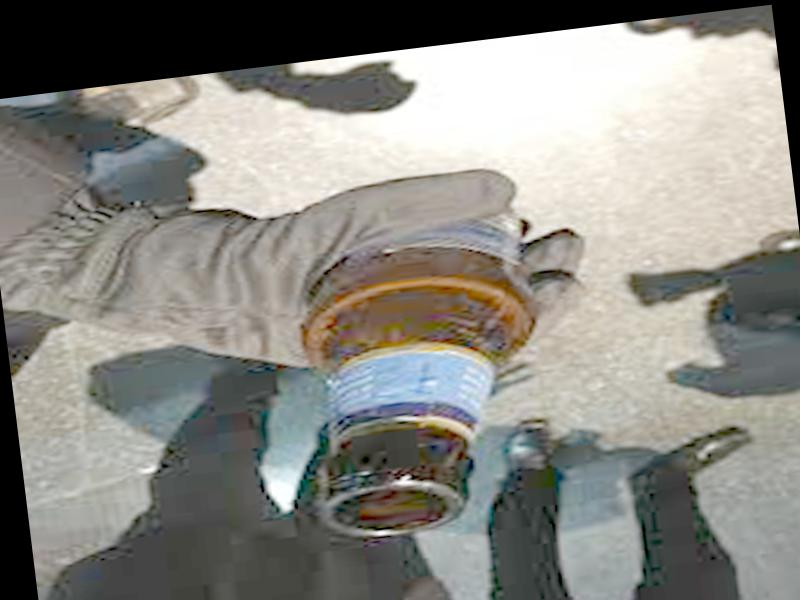Beer: (278, 182, 572, 544)
